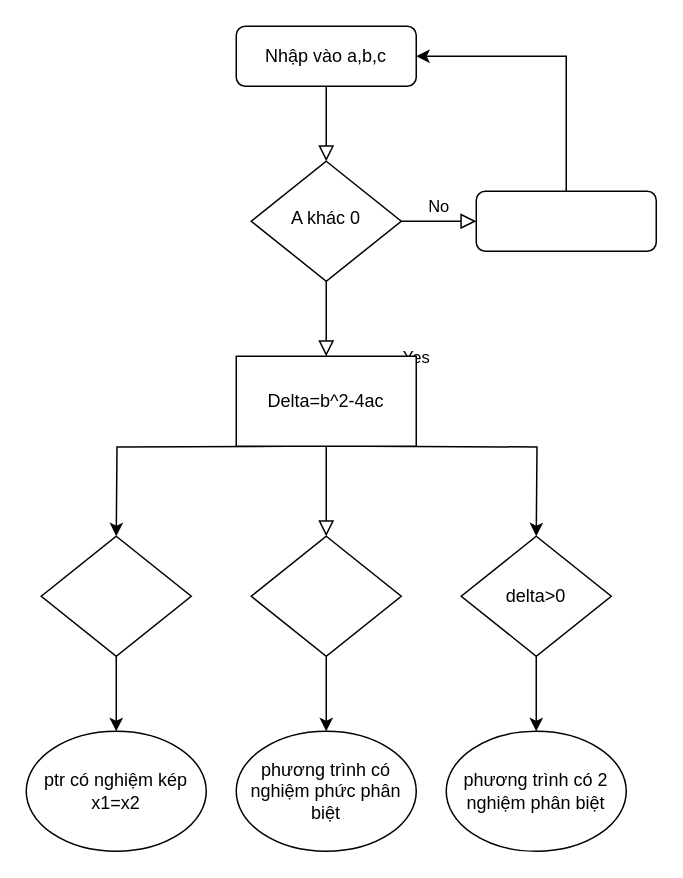
Some shapes in this 683 by 878 pixel diagram are drawn without their labels. The shapes that lost their labels are listed below. From the top down, each one's centre as x and y in pixels, then its label:
point 565,220: Không phải ptr bậc 2
point 115,595: delta=0
point 325,595: delta<0
